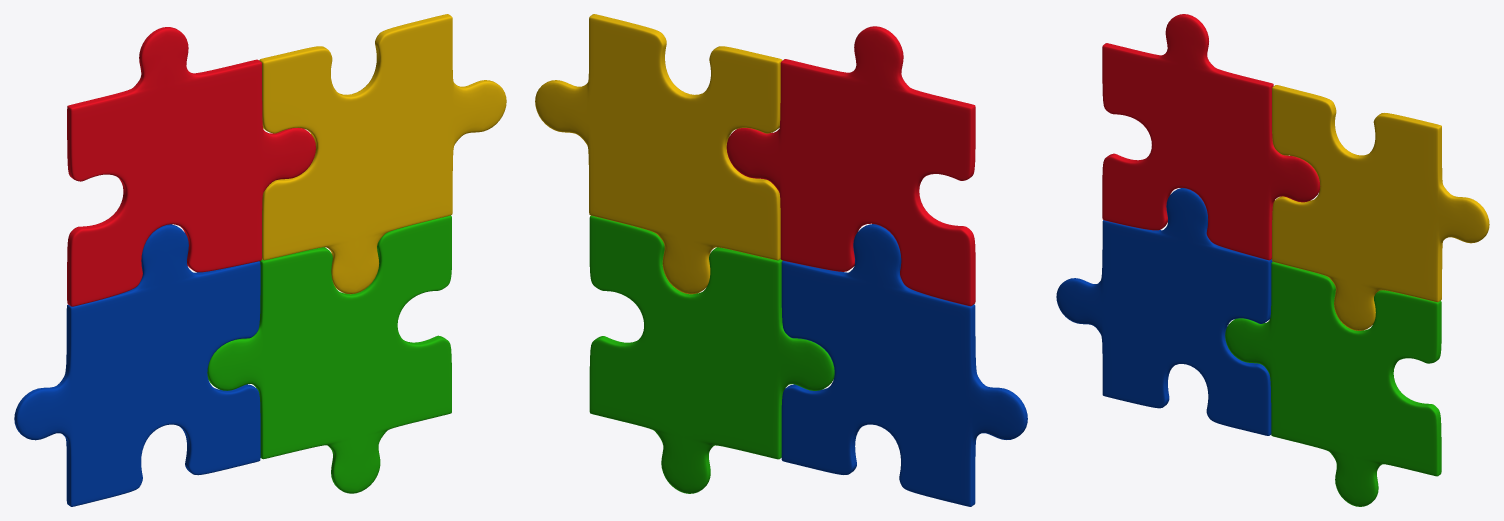
Rendered from puzzle.glb.
3 views of the same model, side by side, from view 1: azimuth 30°, elevation 25°; view 2: azimuth 150°, elevation 25°; view 3: azimuth 330°, elevation 25° (orthographic). The views are drawn at different scales.
Visible parts, largest first — view 1: Plane.001_1, Plane.002_2, Plane_0, Plane.003_3; view 2: Plane.002_2, Plane.001_1, Plane_0, Plane.003_3; view 3: Plane_0, Plane.001_1, Plane.002_2, Plane.003_3.
Part boxes in pixels (x1=…): Plane.001_1: x1=67, y1=27, x2=315, y2=306; Plane.002_2: x1=14, y1=224, x2=260, y2=506; Plane_0: x1=259, y1=14, x2=506, y2=294; Plane.003_3: x1=207, y1=215, x2=451, y2=493; Plane.002_2: x1=781, y1=224, x2=1027, y2=506; Plane.001_1: x1=726, y1=26, x2=975, y2=306; Plane_0: x1=535, y1=14, x2=782, y2=294; Plane.003_3: x1=589, y1=215, x2=834, y2=493; Plane_0: x1=1272, y1=85, x2=1489, y2=330; Plane.001_1: x1=1102, y1=14, x2=1320, y2=260; Plane.002_2: x1=1056, y1=188, x2=1272, y2=435; Plane.003_3: x1=1225, y1=262, x2=1441, y2=506.
Size of the model in its own units: 3.58 by 3.56 by 0.0703.
